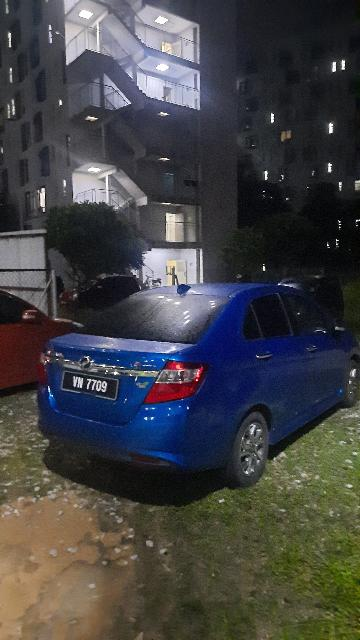License_Plate: (56, 368, 124, 402)
car: (33, 268, 360, 484)
